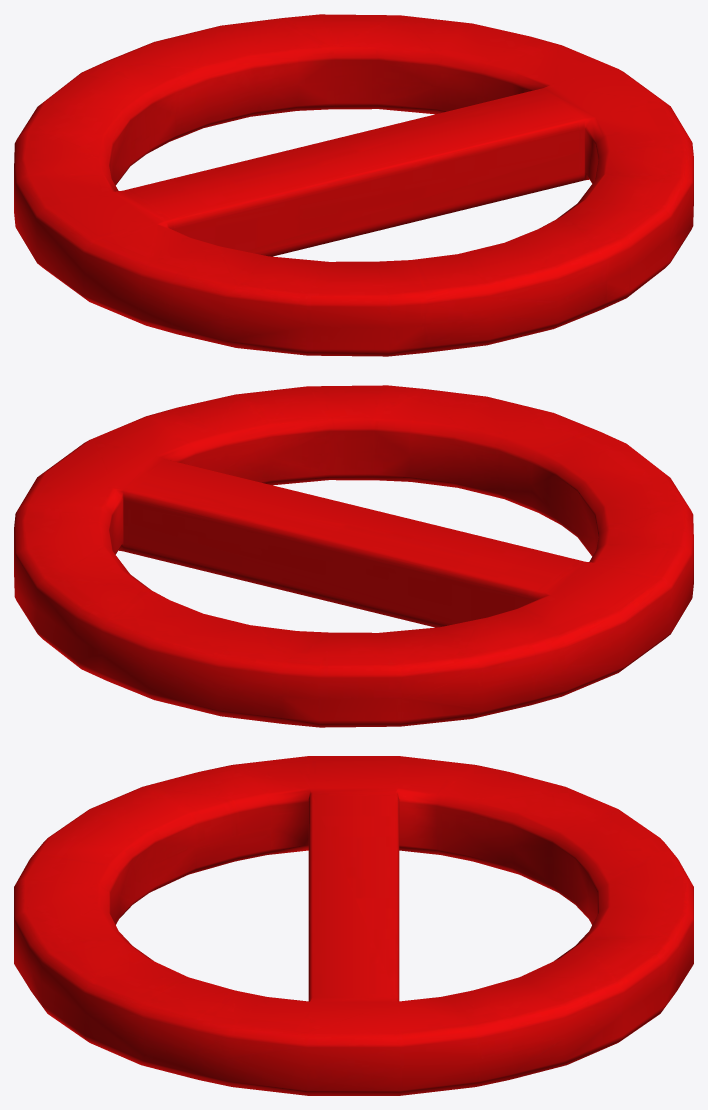
The model's file is deny-ld.glb.
3 views of the same model, one above another, from view 1: azimuth 30°, elevation 25°; view 2: azimuth 150°, elevation 25°; view 3: azimuth 270°, elevation 25° (orthographic).
Size of the model in its own units: 1.91 by 0.1918 by 1.91.
1 material, 1 textured.
